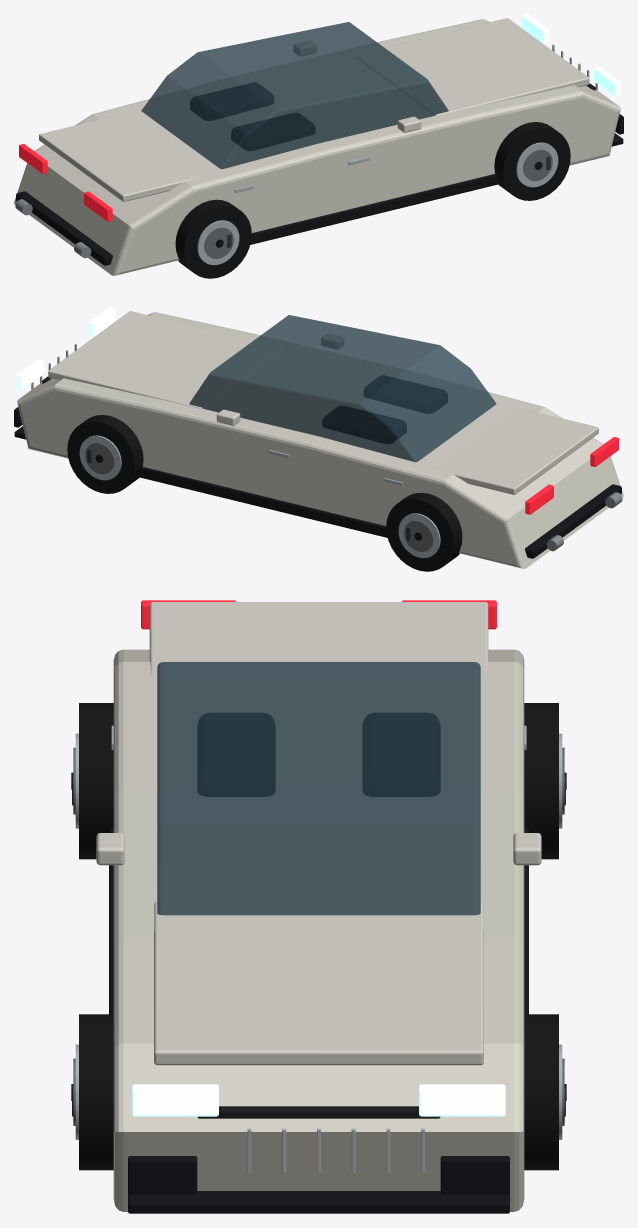
File: rr_arcadia_droptail.glb
3 views of the same model, one above another, from view 1: azimuth 30°, elevation 25°; view 2: azimuth 150°, elevation 25°; view 3: azimuth 270°, elevation 25° (orthographic). The views are drawn at different scales.
Parts seen in each view (by area): view 1: sculpted_body, glasshouse, hood_center, rear_deck, rear_right_wheel_tire, front_right_wheel_tire, side_skirt_1, seat_-1, seat_1, rear_diffuser, front_right_wheel_rim, rear_right_wheel_rim (+6 smaller); view 2: sculpted_body, glasshouse, hood_center, rear_deck, rear_left_wheel_tire, front_left_wheel_tire, side_skirt_-1, seat_1, seat_-1, rear_diffuser, front_left_wheel_rim, rear_left_wheel_rim (+6 smaller); view 3: sculpted_body, glasshouse, hood_center, rear_deck, front_splitter, seat_-1, seat_1, front_left_wheel_tire, front_right_wheel_tire, rear_left_wheel_tire, rear_right_wheel_tire, headlight_left (+6 smaller).
Boxes of the visible parts, x1,y1,x2,y2 form: sculpted_body: (14, 19, 620, 275); glasshouse: (141, 22, 448, 169); hood_center: (355, 18, 589, 115); rear_deck: (39, 114, 203, 201); rear_right_wheel_tire: (175, 199, 251, 278); front_right_wheel_tire: (494, 122, 570, 200); side_skirt_1: (250, 174, 499, 244); seat_-1: (190, 83, 273, 120); seat_1: (231, 113, 314, 150); rear_diffuser: (16, 191, 112, 265); front_right_wheel_rim: (516, 142, 558, 187); rear_right_wheel_rim: (197, 220, 239, 265); sculpted_body: (17, 312, 623, 568); glasshouse: (189, 315, 496, 462); hood_center: (48, 311, 282, 408); rear_deck: (434, 407, 598, 494); rear_left_wheel_tire: (386, 492, 462, 571); front_left_wheel_tire: (67, 415, 143, 493); side_skirt_-1: (138, 467, 387, 537); seat_1: (364, 376, 447, 413); seat_-1: (323, 406, 406, 443); rear_diffuser: (525, 484, 621, 558); front_left_wheel_rim: (79, 435, 121, 480); rear_left_wheel_rim: (398, 513, 440, 558); sculpted_body: (113, 649, 524, 1211); glasshouse: (157, 662, 480, 915); hood_center: (154, 902, 483, 1065); rear_deck: (149, 602, 488, 680); front_splitter: (128, 1191, 509, 1213); seat_-1: (363, 713, 439, 796); seat_1: (198, 713, 274, 796); front_left_wheel_tire: (524, 1014, 558, 1170); front_right_wheel_tire: (79, 1014, 113, 1170); rear_left_wheel_tire: (524, 703, 558, 859); rear_right_wheel_tire: (79, 703, 113, 859); headlight_left: (419, 1084, 505, 1116).
Bounding box in the file's own units: 5.66 × 1.36 × 2.28.
